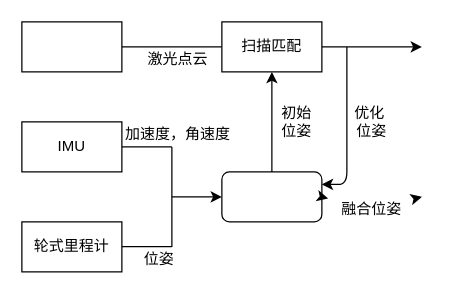
This 454x294 diagram has some shape labels left out. The shapes that lost their labels are listed below. From the top down, each one's centre as x and y in pixels, then its label:
the point at 71,46: 激光雷达
the point at 271,196: 误差状态卡尔曼滤波
